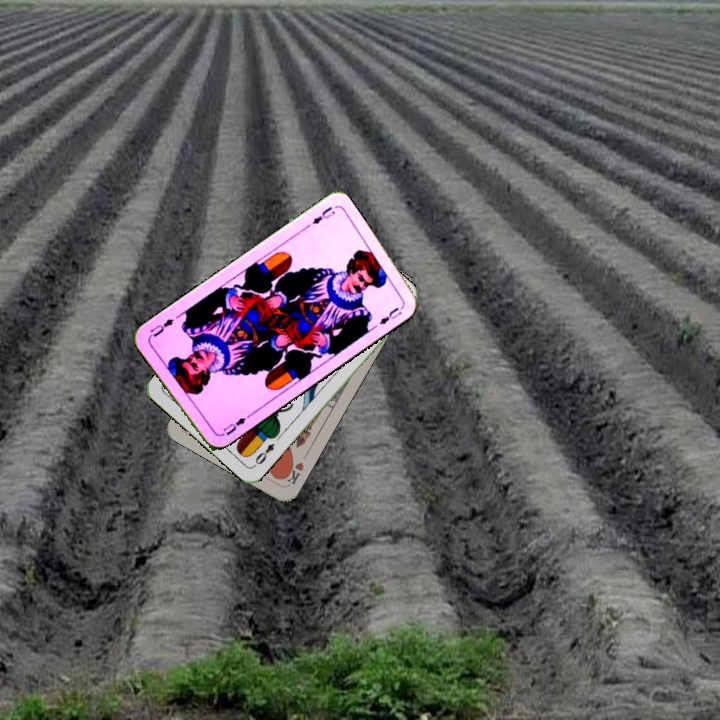EO: (249, 439, 277, 470)
EU: (219, 411, 252, 438), (308, 203, 338, 227)
HK: (279, 458, 306, 488)
